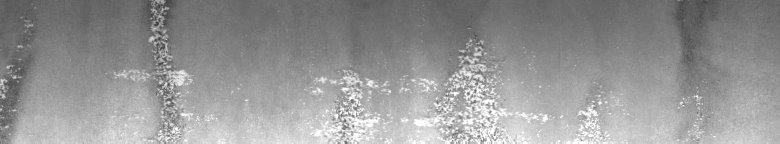hc: (106, 4, 198, 136)
